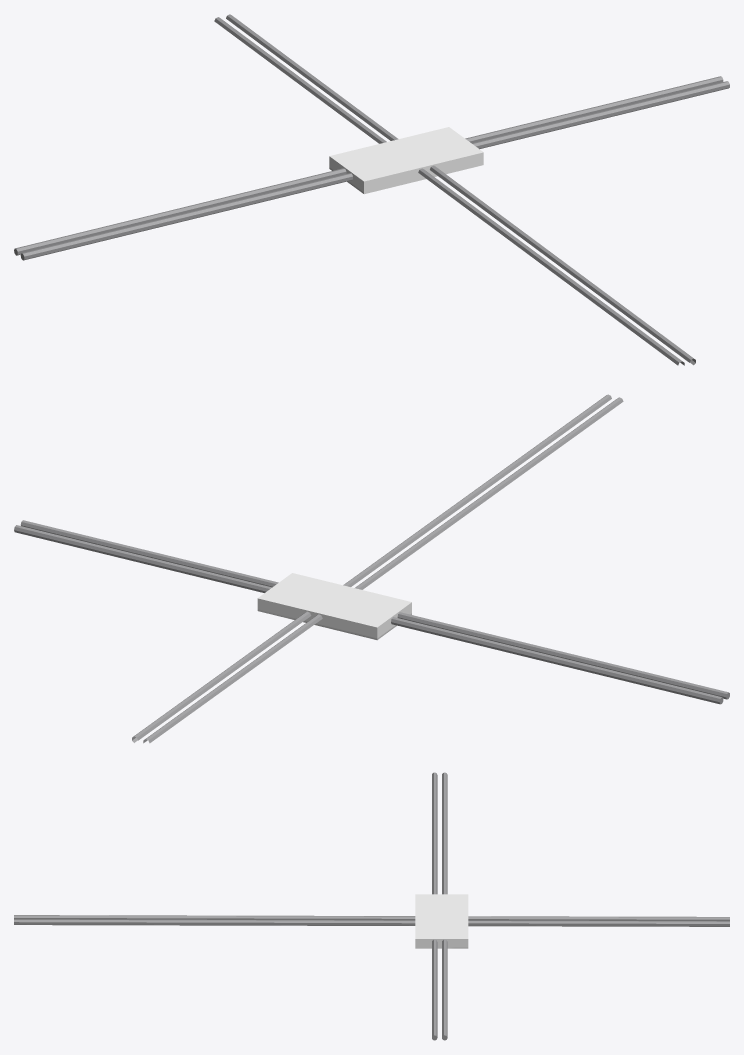
3 renders of one model, top to bottom at view 1: azimuth 30°, elevation 25°; view 2: azimuth 150°, elevation 25°; view 3: azimuth 270°, elevation 25°, orthographic. The views are drawn at different scales.
Visible parts, largest first — view 1: Circle.004; view 2: Circle.004; view 3: Circle.004.
Boxes of the visible parts, <box> form: Circle.004: <box>14,14,729,365</box>; Circle.004: <box>14,394,729,743</box>; Circle.004: <box>14,772,729,1040</box>.
Bounding box in the file's own units: 1913 × 32.94 × 2202.
